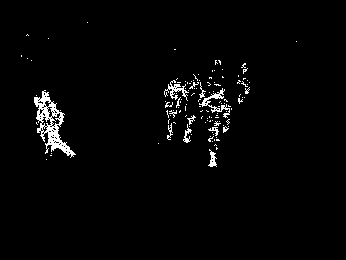person: (31, 88, 78, 161), (200, 82, 233, 168), (181, 73, 207, 145), (163, 77, 185, 142)
